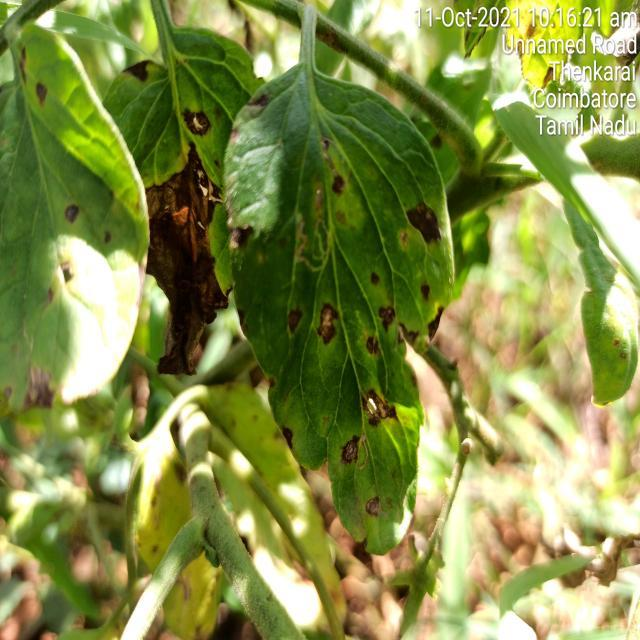Tomato mosaic virus leaf: (224, 150, 451, 558)
